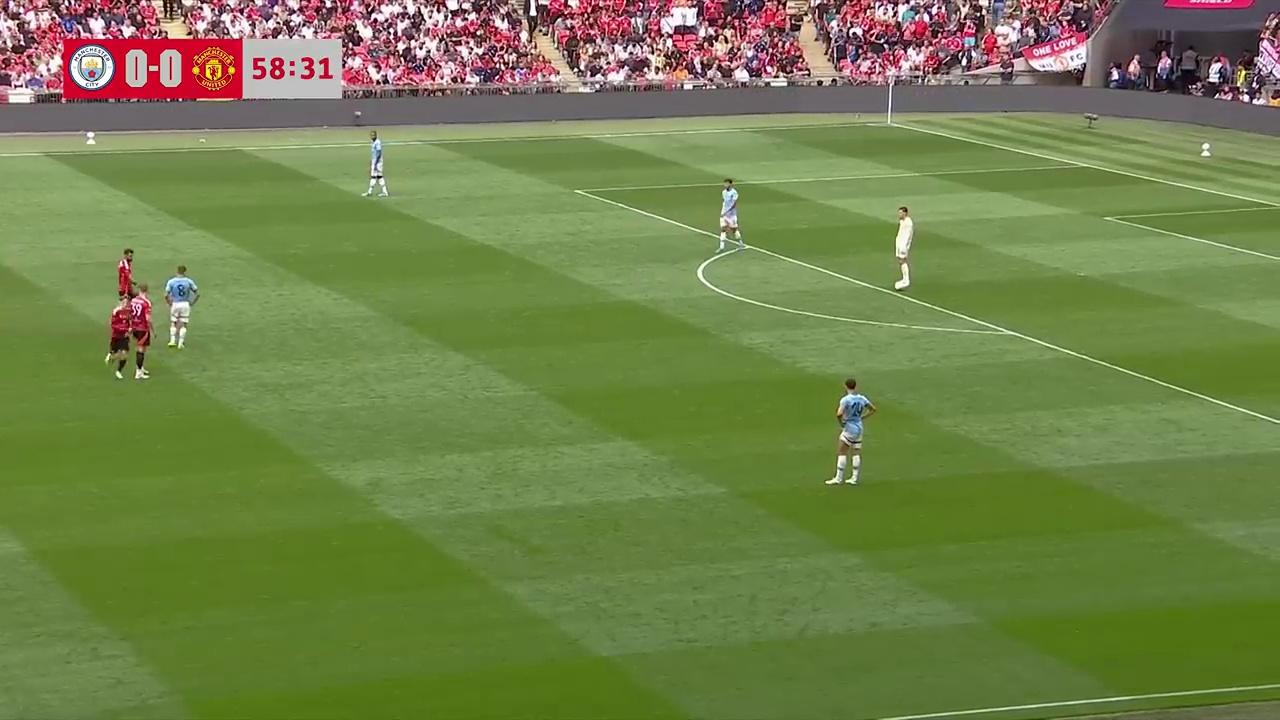player: (826, 379, 876, 485), (163, 264, 198, 349), (104, 295, 134, 379), (128, 288, 152, 381), (893, 206, 913, 289), (363, 131, 388, 197), (718, 180, 741, 251), (116, 247, 136, 304)
